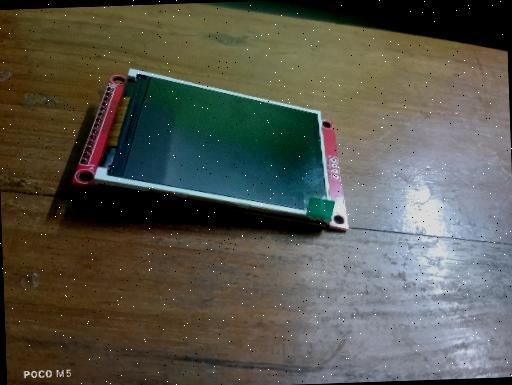Display: (64, 57, 350, 242)
